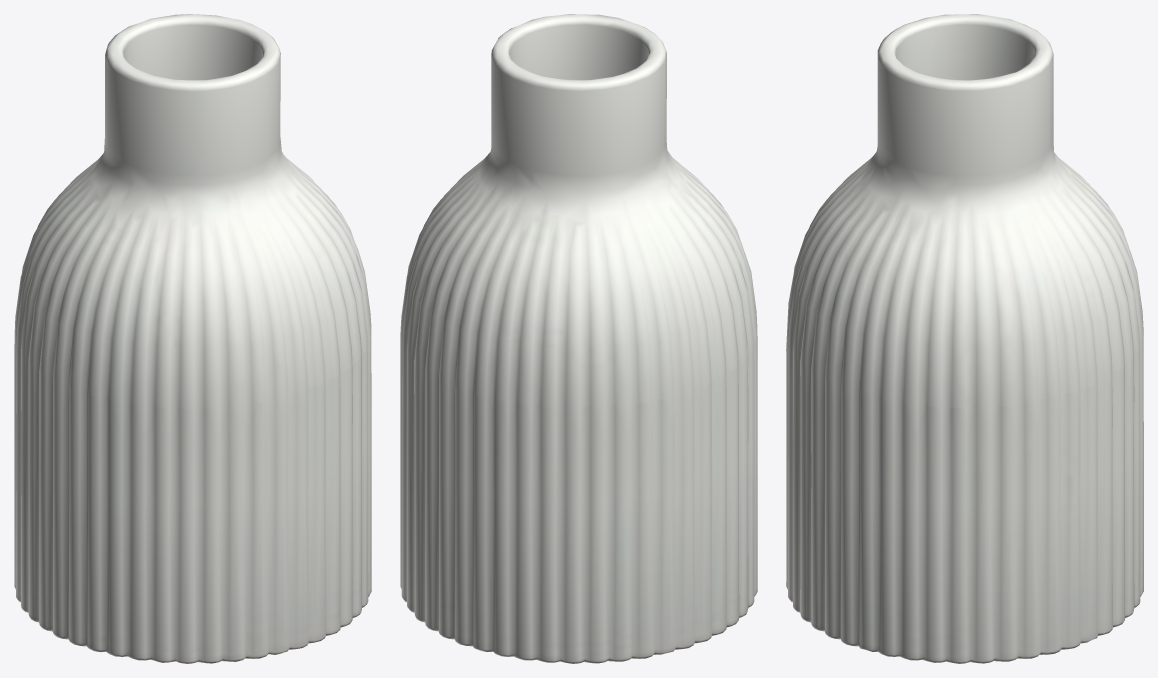
3 views of the same model, side by side, from view 1: azimuth 30°, elevation 25°; view 2: azimuth 150°, elevation 25°; view 3: azimuth 270°, elevation 25° (orthographic).
Parts seen in each view (by area): view 1: 20607314-KAPKASTANJ001; view 2: 20607314-KAPKASTANJ001; view 3: 20607314-KAPKASTANJ001.
Part boxes in pixels (left/top/right/bottom): 20607314-KAPKASTANJ001: left=14, top=14, right=371, bottom=663; 20607314-KAPKASTANJ001: left=400, top=14, right=757, bottom=663; 20607314-KAPKASTANJ001: left=786, top=14, right=1143, bottom=663.
Bounding box in the file's own units: 0.0899 × 0.15 × 0.0899.
Materials: 2 (2 with a texture image).
